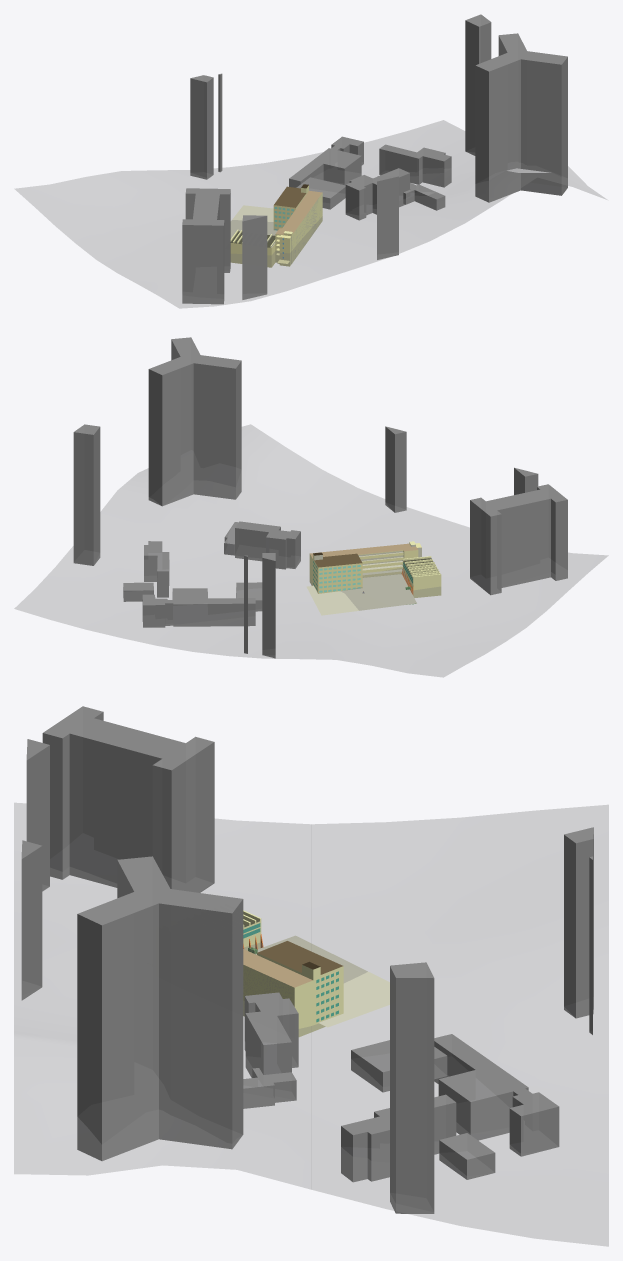
Rendered from Output_STMC_cad2.dae.
3 views of the same model, one above another, from view 1: azimuth 30°, elevation 25°; view 2: azimuth 150°, elevation 25°; view 3: azimuth 270°, elevation 25° (orthographic). The views are drawn at different scales.
Parts seen in each view (by area): view 1: group_85, group_14, group_4, STMC_import (×4), group_49, group_15, group_16, group_22, group_70, group_51, group_65, group_82 (+3 smaller); view 2: group_85, group_14, group_4, STMC_import (×4), group_15, group_16, image_0, group_65, group_51, group_49, group_22, group_70 (+2 smaller); view 3: group_85, group_14, group_4, group_15, group_16, STMC_import (×3), group_49, group_65, group_22, group_51, group_70, image_0 (+4 smaller).
Part boxes in pixels (left/top/right/bottom): group_85: left=15, top=120, right=606, bottom=308; group_14: left=475, top=33, right=567, bottom=202; group_4: left=182, top=188, right=230, bottom=304; STMC_import (×4): left=230, top=185, right=322, bottom=267; group_49: left=190, top=75, right=213, bottom=179; group_15: left=465, top=14, right=491, bottom=155; group_16: left=289, top=136, right=363, bottom=187; group_22: left=379, top=144, right=451, bottom=187; group_70: left=242, top=215, right=267, bottom=299; group_51: left=377, top=176, right=398, bottom=259; group_65: left=345, top=168, right=409, bottom=220; group_82: left=296, top=177, right=345, bottom=209; group_85: left=14, top=424, right=608, bottom=677; group_14: left=148, top=337, right=241, bottom=506; group_4: left=470, top=484, right=567, bottom=595; STMC_import (×4): left=310, top=543, right=441, bottom=597; group_15: left=73, top=424, right=100, bottom=565; group_16: left=142, top=588, right=255, bottom=627; image_0: left=306, top=574, right=416, bottom=615; group_65: left=235, top=521, right=300, bottom=569; group_51: left=385, top=426, right=406, bottom=512; group_49: left=262, top=553, right=275, bottom=658; group_22: left=144, top=541, right=169, bottom=597; group_70: left=514, top=467, right=538, bottom=494; group_85: left=14, top=803, right=608, bottom=1246; group_14: left=77, top=856, right=243, bottom=1160; group_4: left=42, top=706, right=214, bottom=892; group_15: left=390, top=962, right=434, bottom=1213; group_16: left=434, top=1034, right=559, bottom=1156; STMC_import (×3): left=243, top=941, right=343, bottom=1037; group_49: left=564, top=827, right=593, bottom=1018; group_65: left=244, top=992, right=298, bottom=1077; group_22: left=341, top=1094, right=456, bottom=1182; group_51: left=21, top=840, right=42, bottom=1000; group_70: left=26, top=739, right=49, bottom=891; image_0: left=255, top=935, right=389, bottom=1027.
Bounding box in the file's own units: 14173 × 9449 × 5481.
